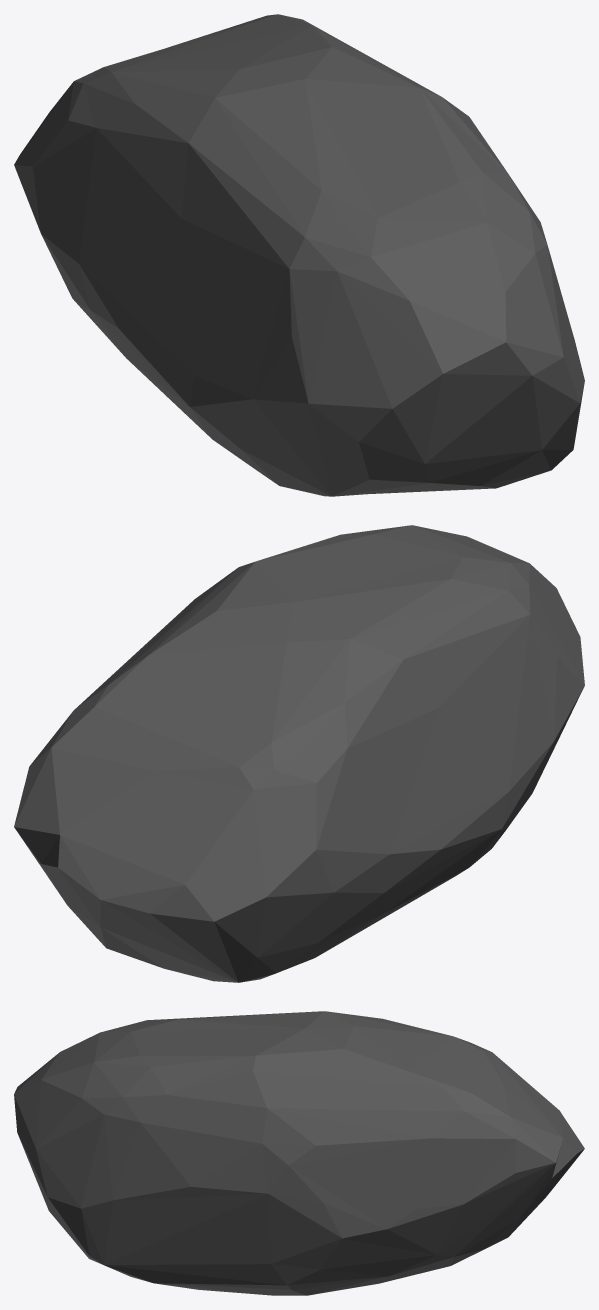
File: Rock4.fbx
The picture shows the model from 3 angles, top to bottom: view 1: azimuth 30°, elevation 25°; view 2: azimuth 150°, elevation 25°; view 3: azimuth 270°, elevation 25°; orthographic projection. The views are drawn at different scales.
Visible parts, largest first — view 1: kő; view 2: kő; view 3: kő.
Boxes of the visible parts, <box> form: kő: <box>14,14,584,496</box>; kő: <box>14,525,584,982</box>; kő: <box>14,1011,584,1295</box>.
Size of the model in its own units: 2.34 by 2.21 by 4.75.
1 material, 1 textured.
